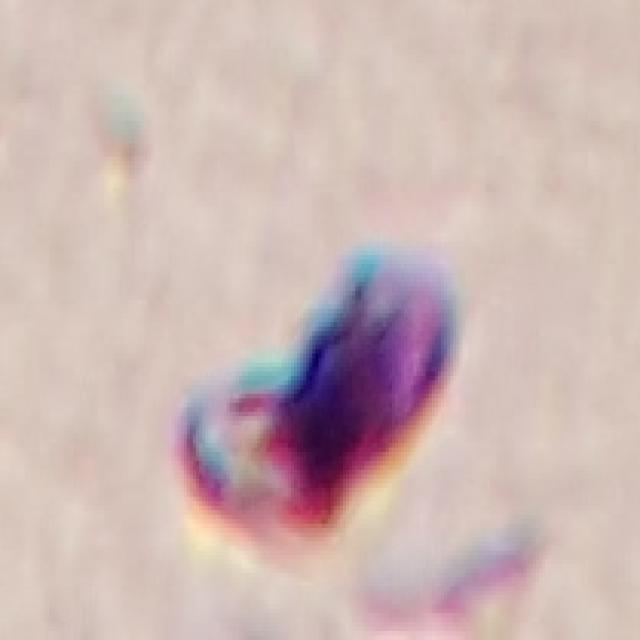non-sperm: (137, 224, 494, 562)
